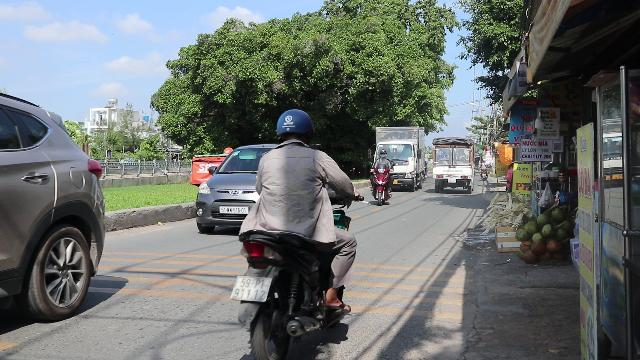helmet: (274, 108, 314, 146)
licenseplate: (230, 276, 272, 302)
motorcyclist: (230, 106, 364, 356)
